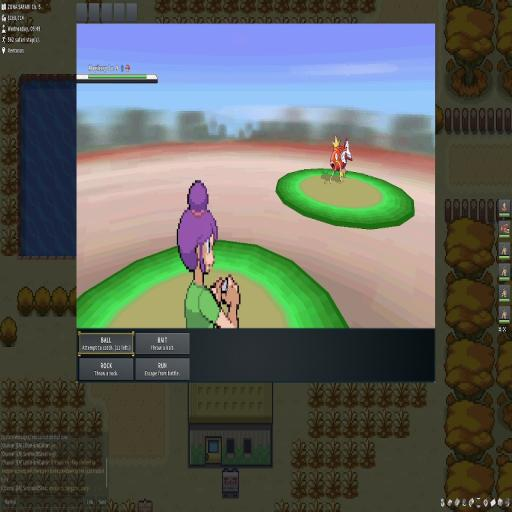FIGHTBAR: (78, 331, 191, 381)
MAGIKARP: (329, 137, 354, 184)
